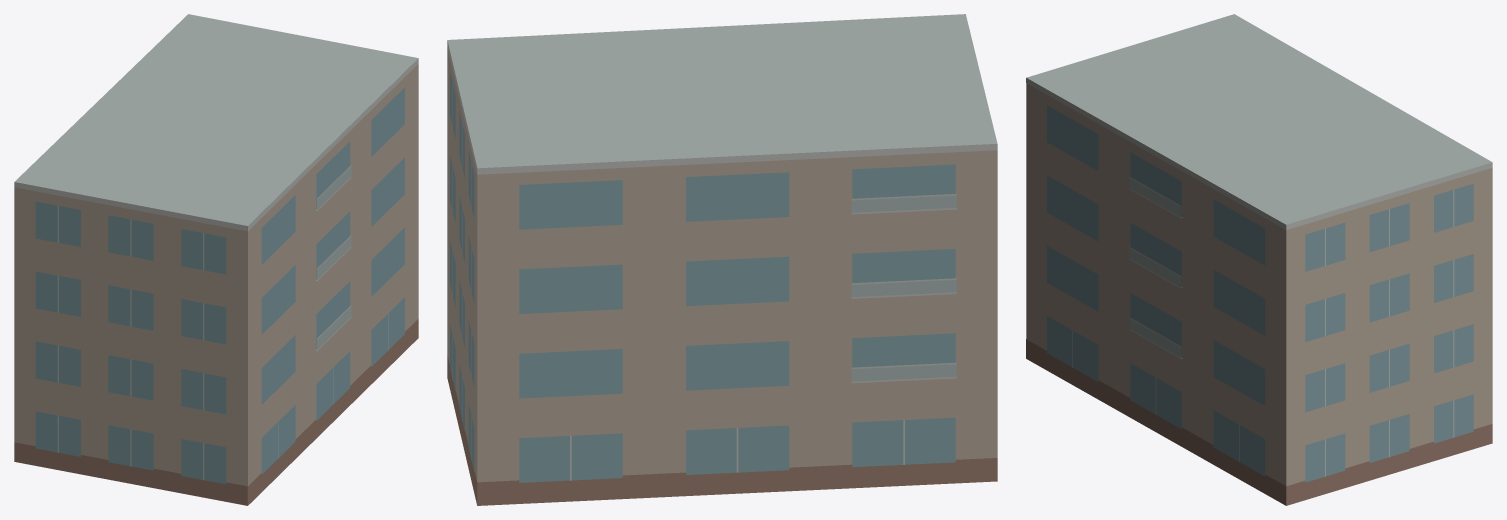
File: survey-upis-32930790.glb
3 views of the same model, side by side, from view 1: azimuth 30°, elevation 25°; view 2: azimuth 150°, elevation 25°; view 3: azimuth 270°, elevation 25° (orthographic). The views are drawn at different scales.
Visible parts, largest first — view 1: survey-upis-32930790.tmp; view 2: survey-upis-32930790.tmp; view 3: survey-upis-32930790.tmp.
Part boxes in pixels (x1,y1,x2,y2): survey-upis-32930790.tmp: (14,14,418,505); survey-upis-32930790.tmp: (447,14,997,505); survey-upis-32930790.tmp: (1026,14,1492,505).
Bounding box in the file's own units: 20.6 × 12.8 × 19.26.
